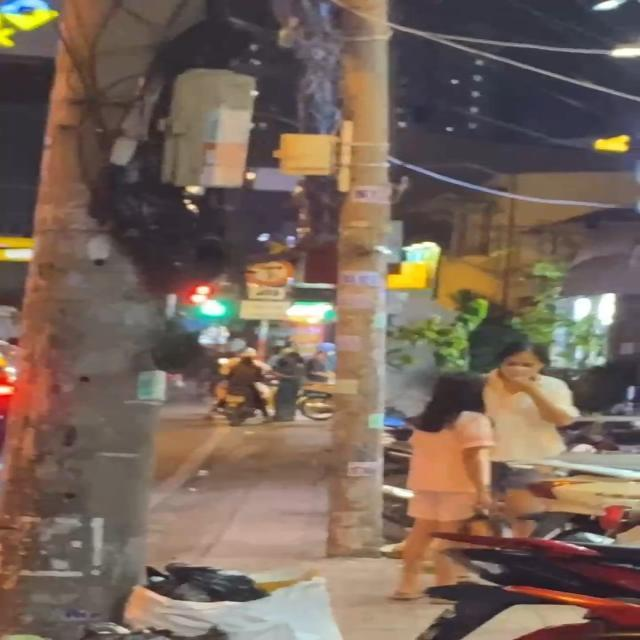137-cam-re-trai-va-re-phai: (240, 256, 294, 288)
